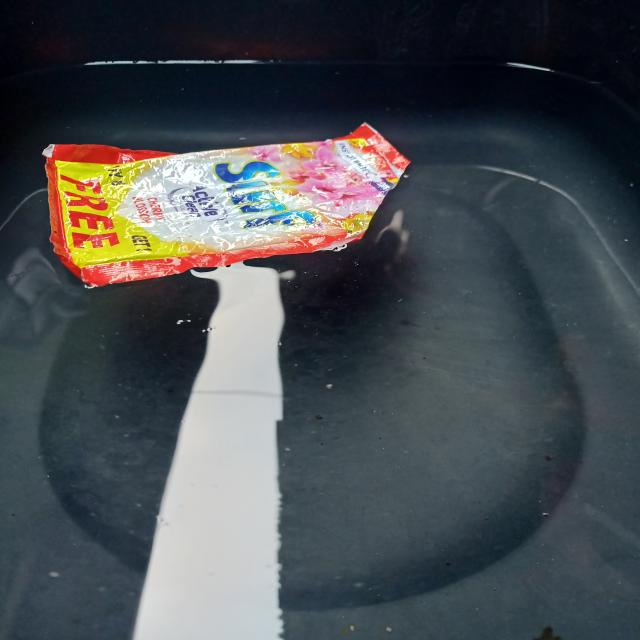Plastic Wrapper: (36, 130, 422, 287)
